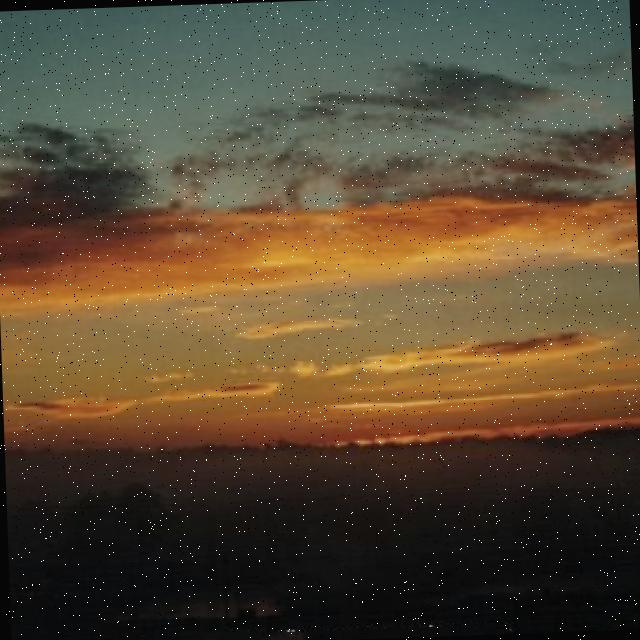As: (1, 61, 640, 427)
